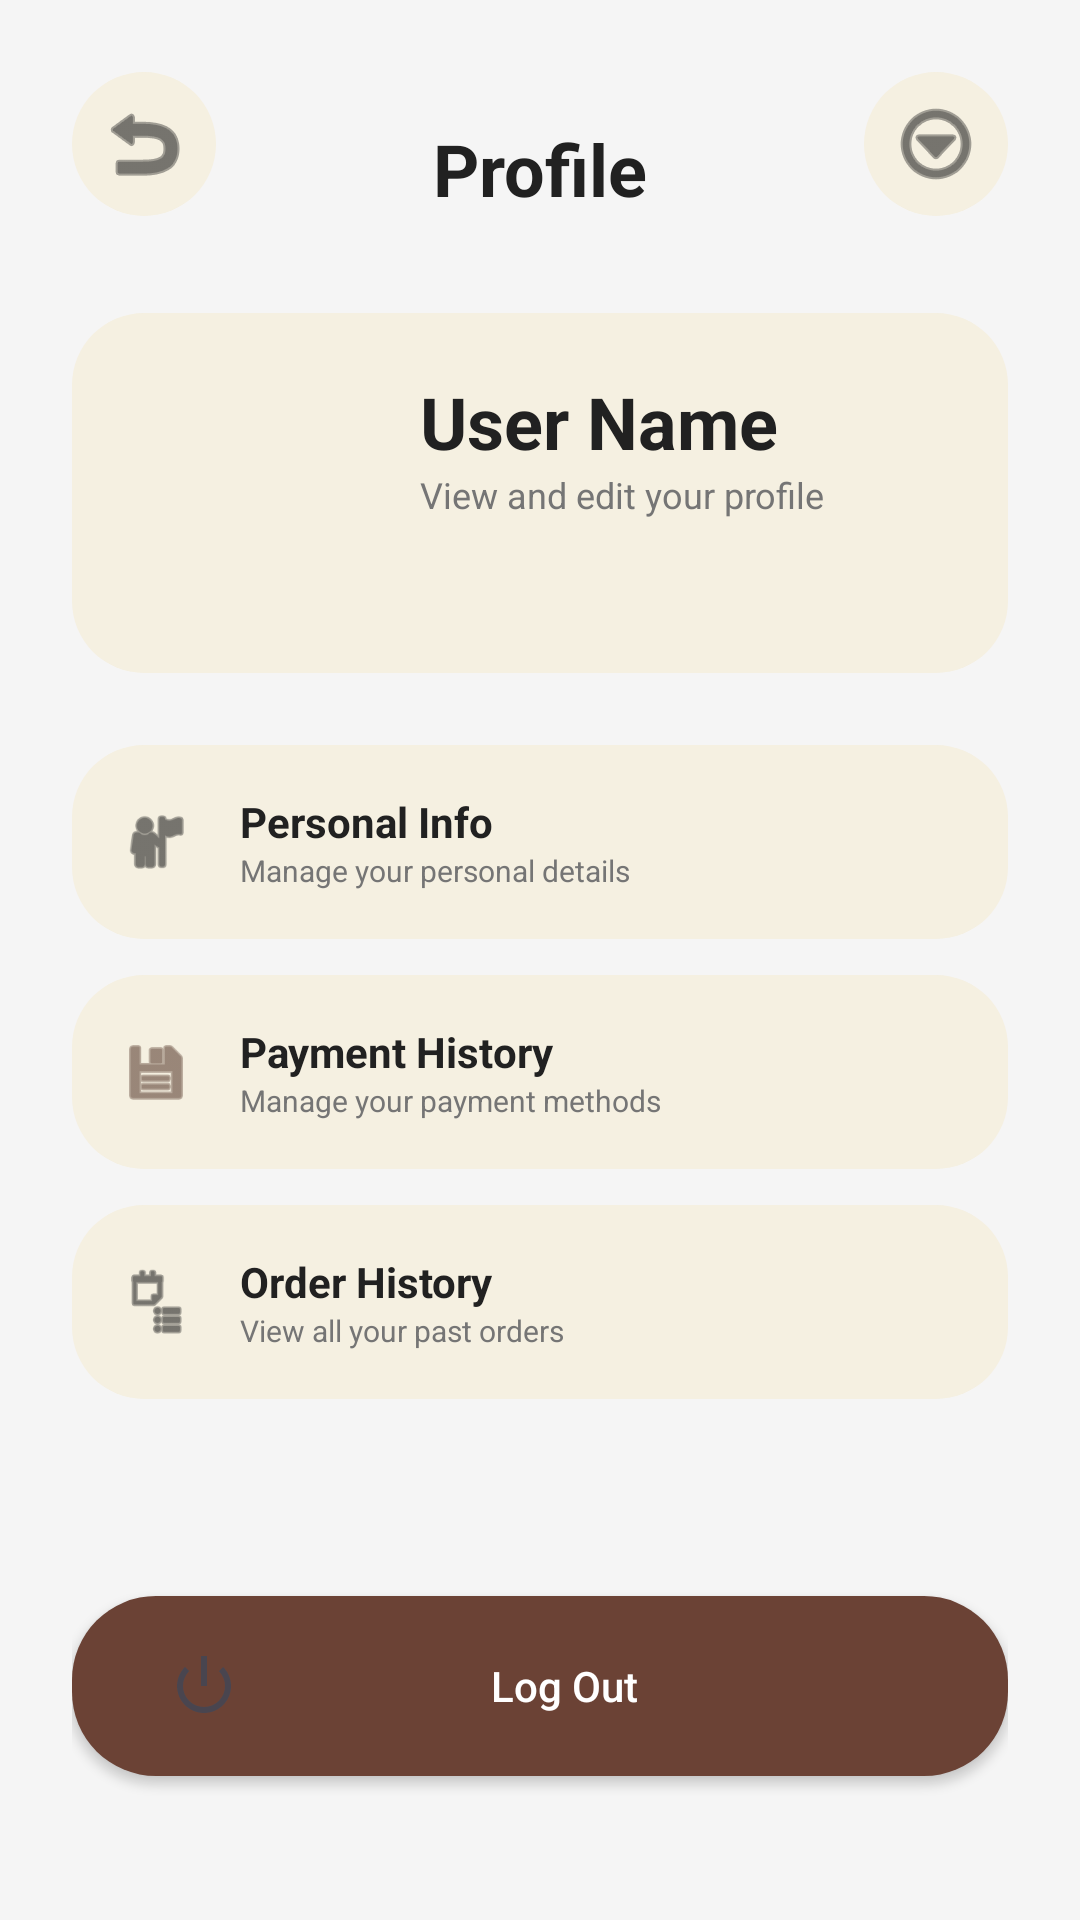

Named icons in this screenshot (1080×1920) and their bounding boxes, (x1, y1, x2, y2):
agenda: (131, 1270, 182, 1334)
more: (900, 108, 972, 180)
myplaces: (130, 815, 184, 869)
revert: (110, 113, 180, 176)
save: (129, 1045, 183, 1100)
